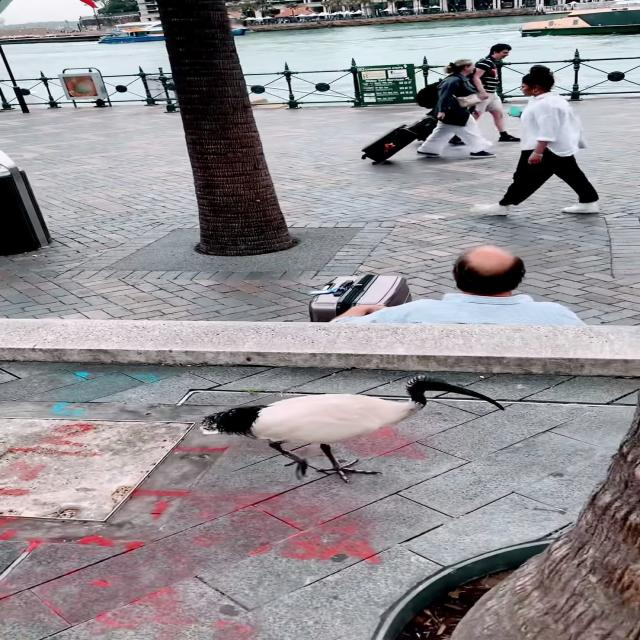Birds-Ibis: (190, 368, 514, 486)
